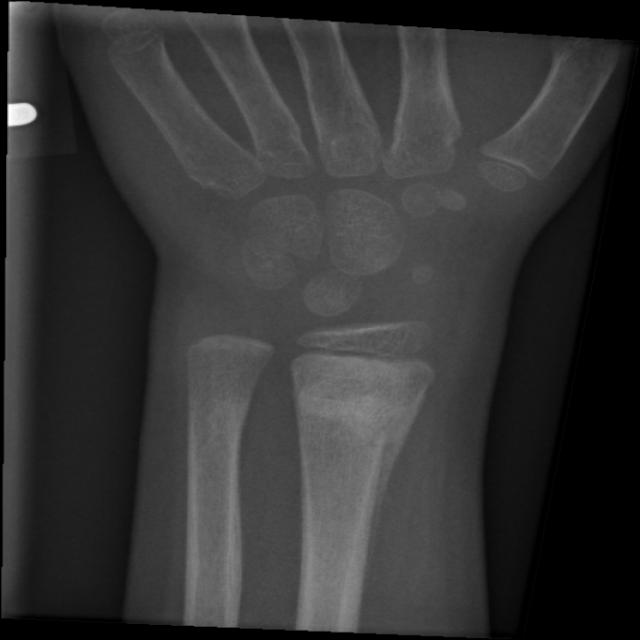radius fracture: (286, 364, 472, 542)
